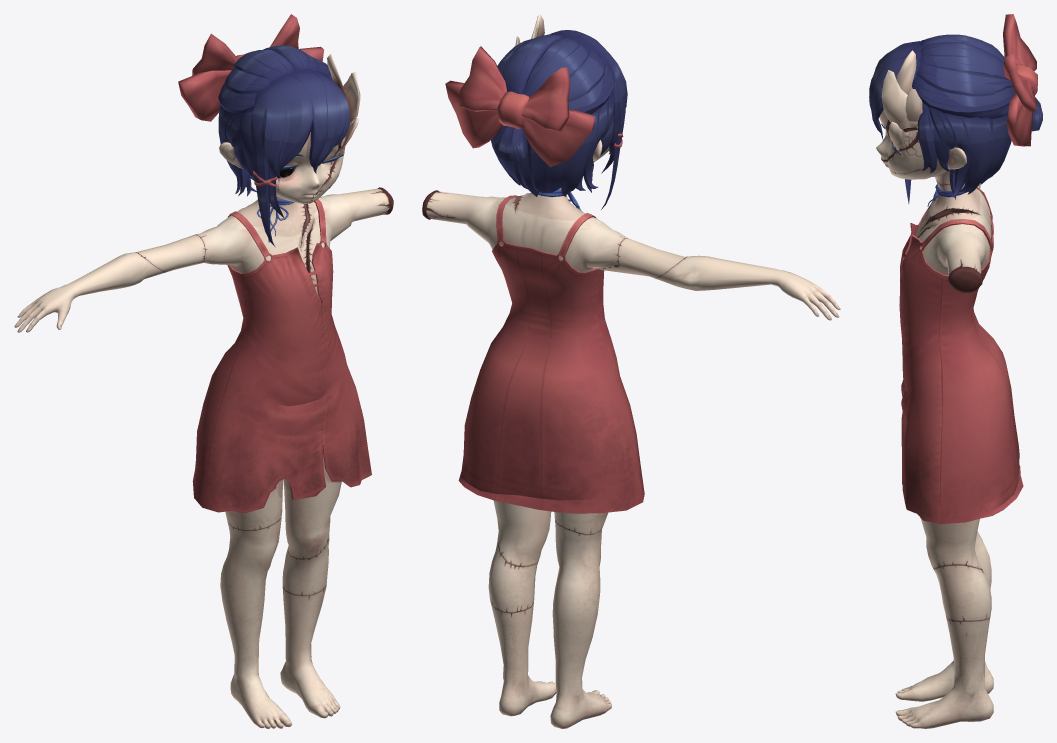
File: littleMita.fbx
The picture shows the model from 3 angles, left to right: view 1: azimuth 30°, elevation 25°; view 2: azimuth 150°, elevation 25°; view 3: azimuth 270°, elevation 25°; orthographic projection. The views are drawn at different scales.
Parts seen in each view (by area): view 1: Cloth, Body.005, Hair.003, Accessories, Head_1.005; view 2: Cloth, Body.005, Hair.003, Accessories; view 3: Cloth, Body.005, Hair.003, Head_1.005, Accessories.
Boxes of the visible parts, x1,y1,x2,y2 form: Cloth: (192,199,371,513); Body.005: (14,187,393,728); Hair.003: (218,45,350,247); Accessories: (178,14,323,242); Head_1.005: (219,54,360,203); Cloth: (458,195,644,513); Body.005: (422,190,840,728); Hair.003: (491,30,627,209); Accessories: (445,46,623,211); Cloth: (899,187,1023,523); Body.005: (895,183,993,728); Hair.003: (869,34,1042,204); Head_1.005: (876,50,966,191); Accessories: (927,14,1037,208).
Bounding box in the file's own units: 81.45 × 30.95 × 133.
